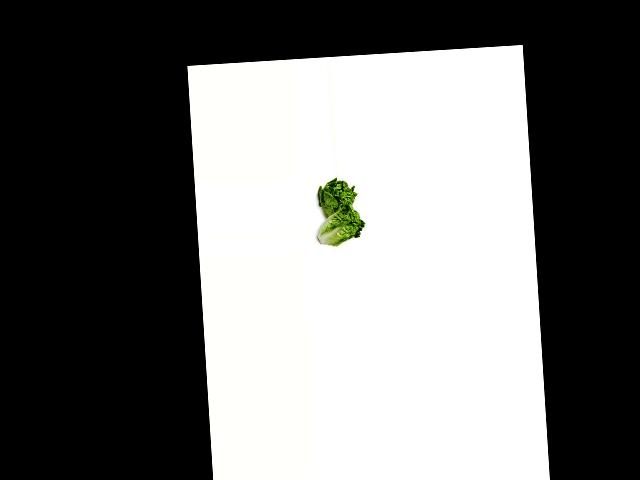lettuce: (311, 176, 359, 222)
